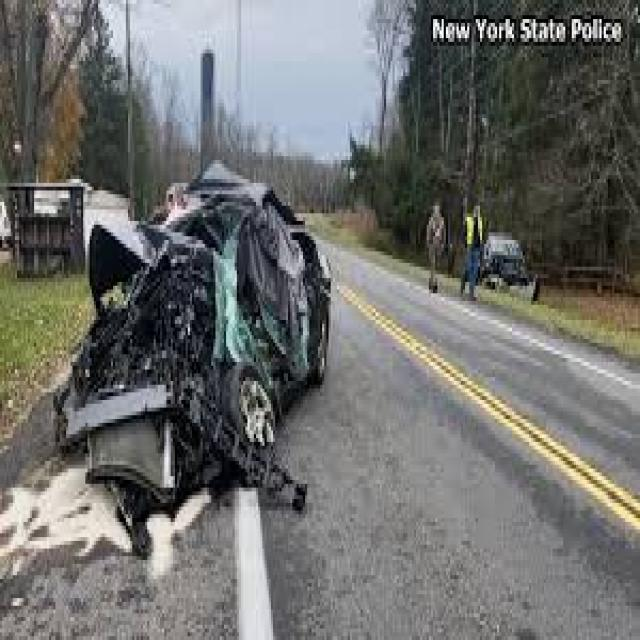accident: (46, 153, 334, 513)
